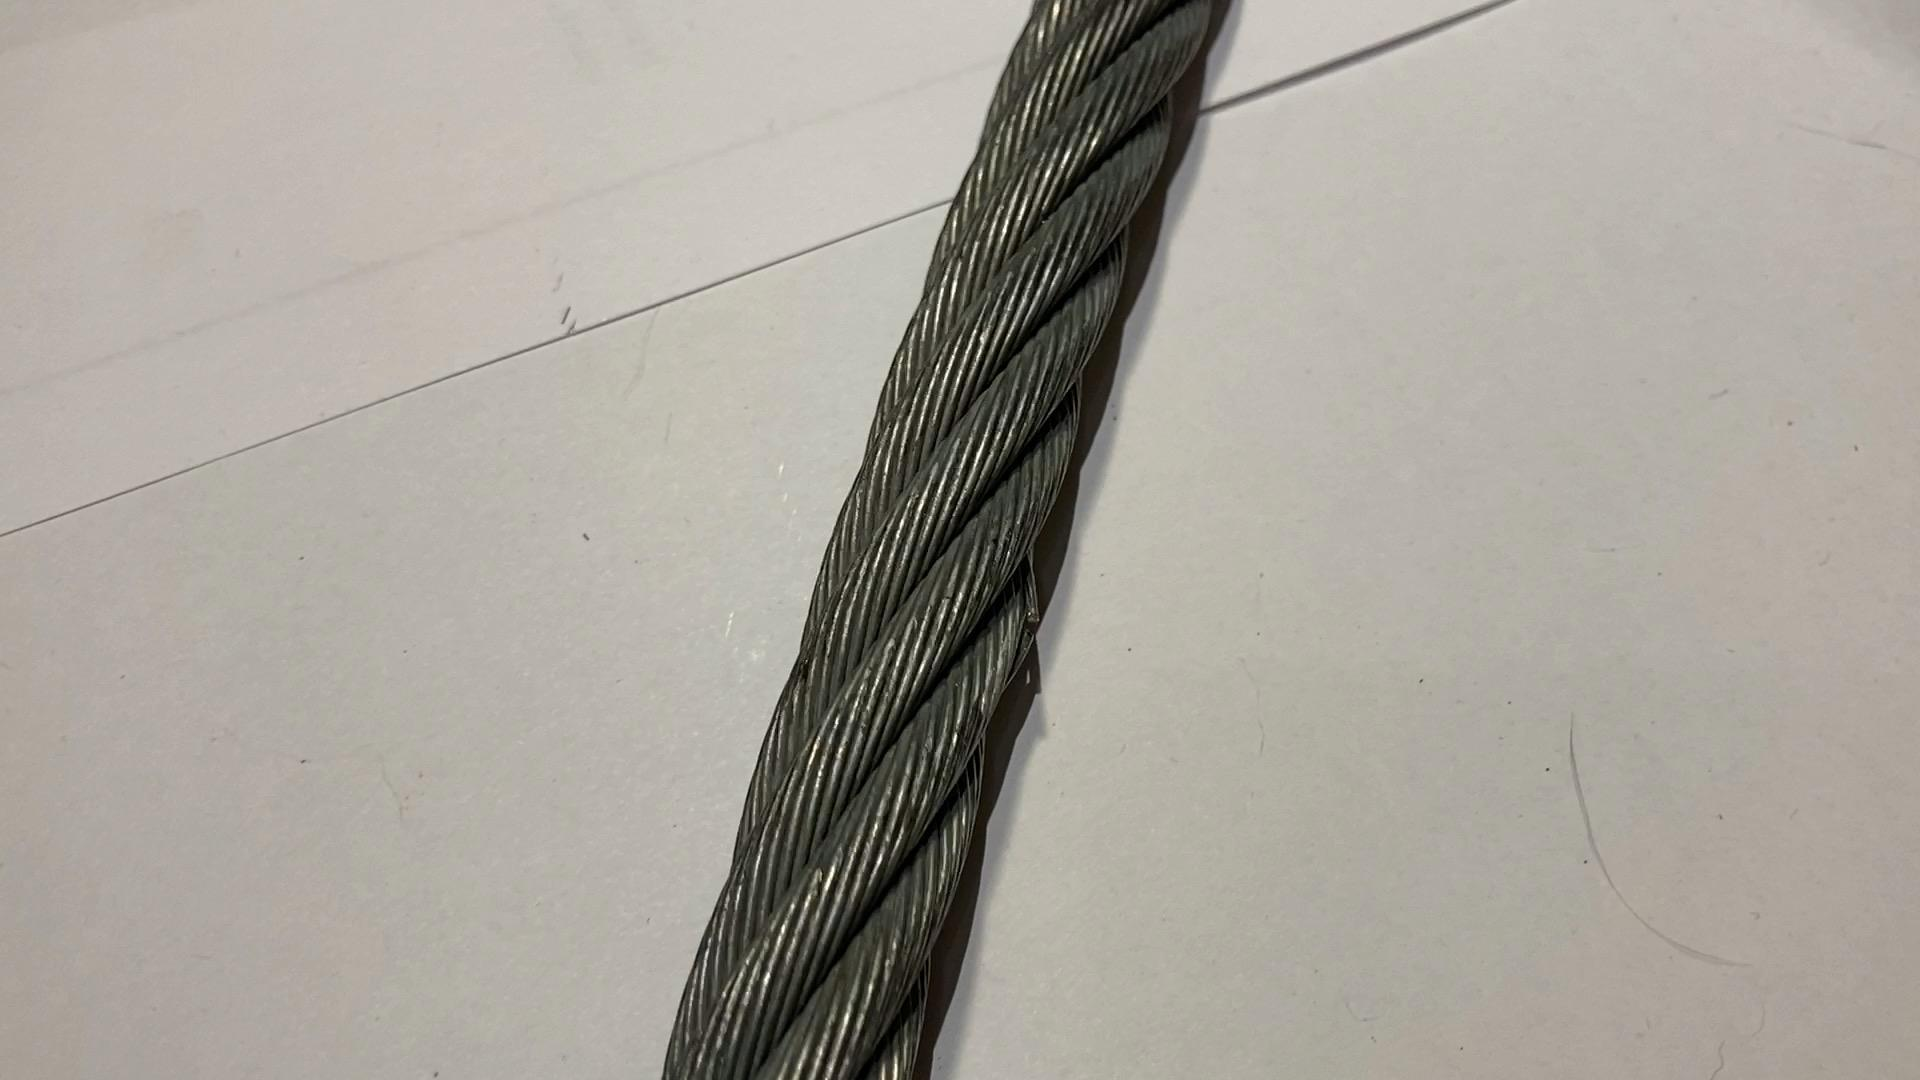break: (996, 576, 1056, 665)
